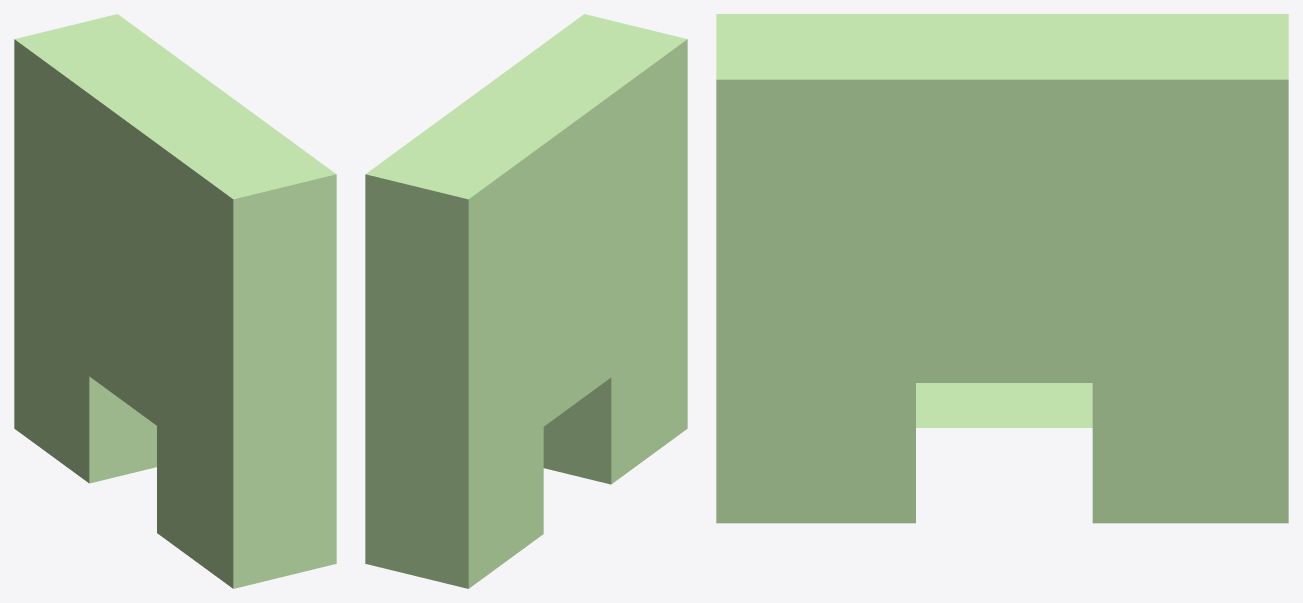
File: gallary.fbx
3 renders of one model, left to right at view 1: azimuth 30°, elevation 25°; view 2: azimuth 150°, elevation 25°; view 3: azimuth 270°, elevation 25°, orthographic. The views are drawn at different scales.
Visible parts, largest first — view 1: gallary; view 2: gallary; view 3: gallary.
Part boxes in pixels (x1=…): gallary: x1=14, y1=14, x2=336, y2=588; gallary: x1=365, y1=14, x2=687, y2=588; gallary: x1=716, y1=14, x2=1288, y2=523.
Size of the model in its own units: 3.22 by 11.61 by 11.83.
